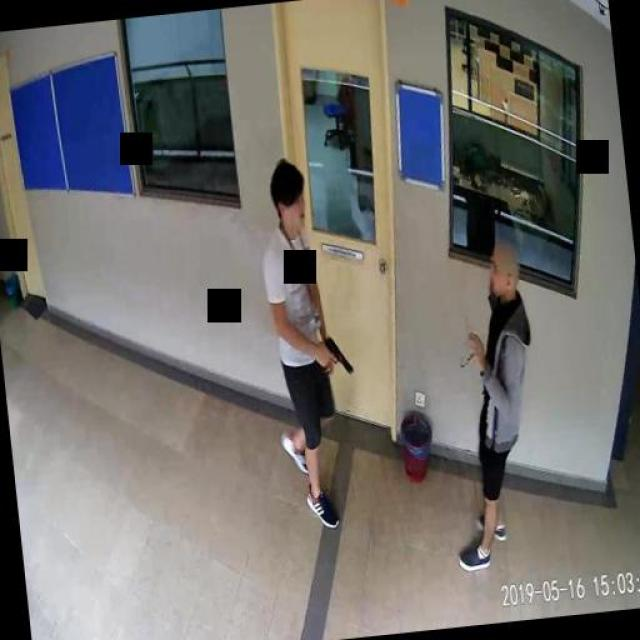gun: (319, 332, 351, 376)
